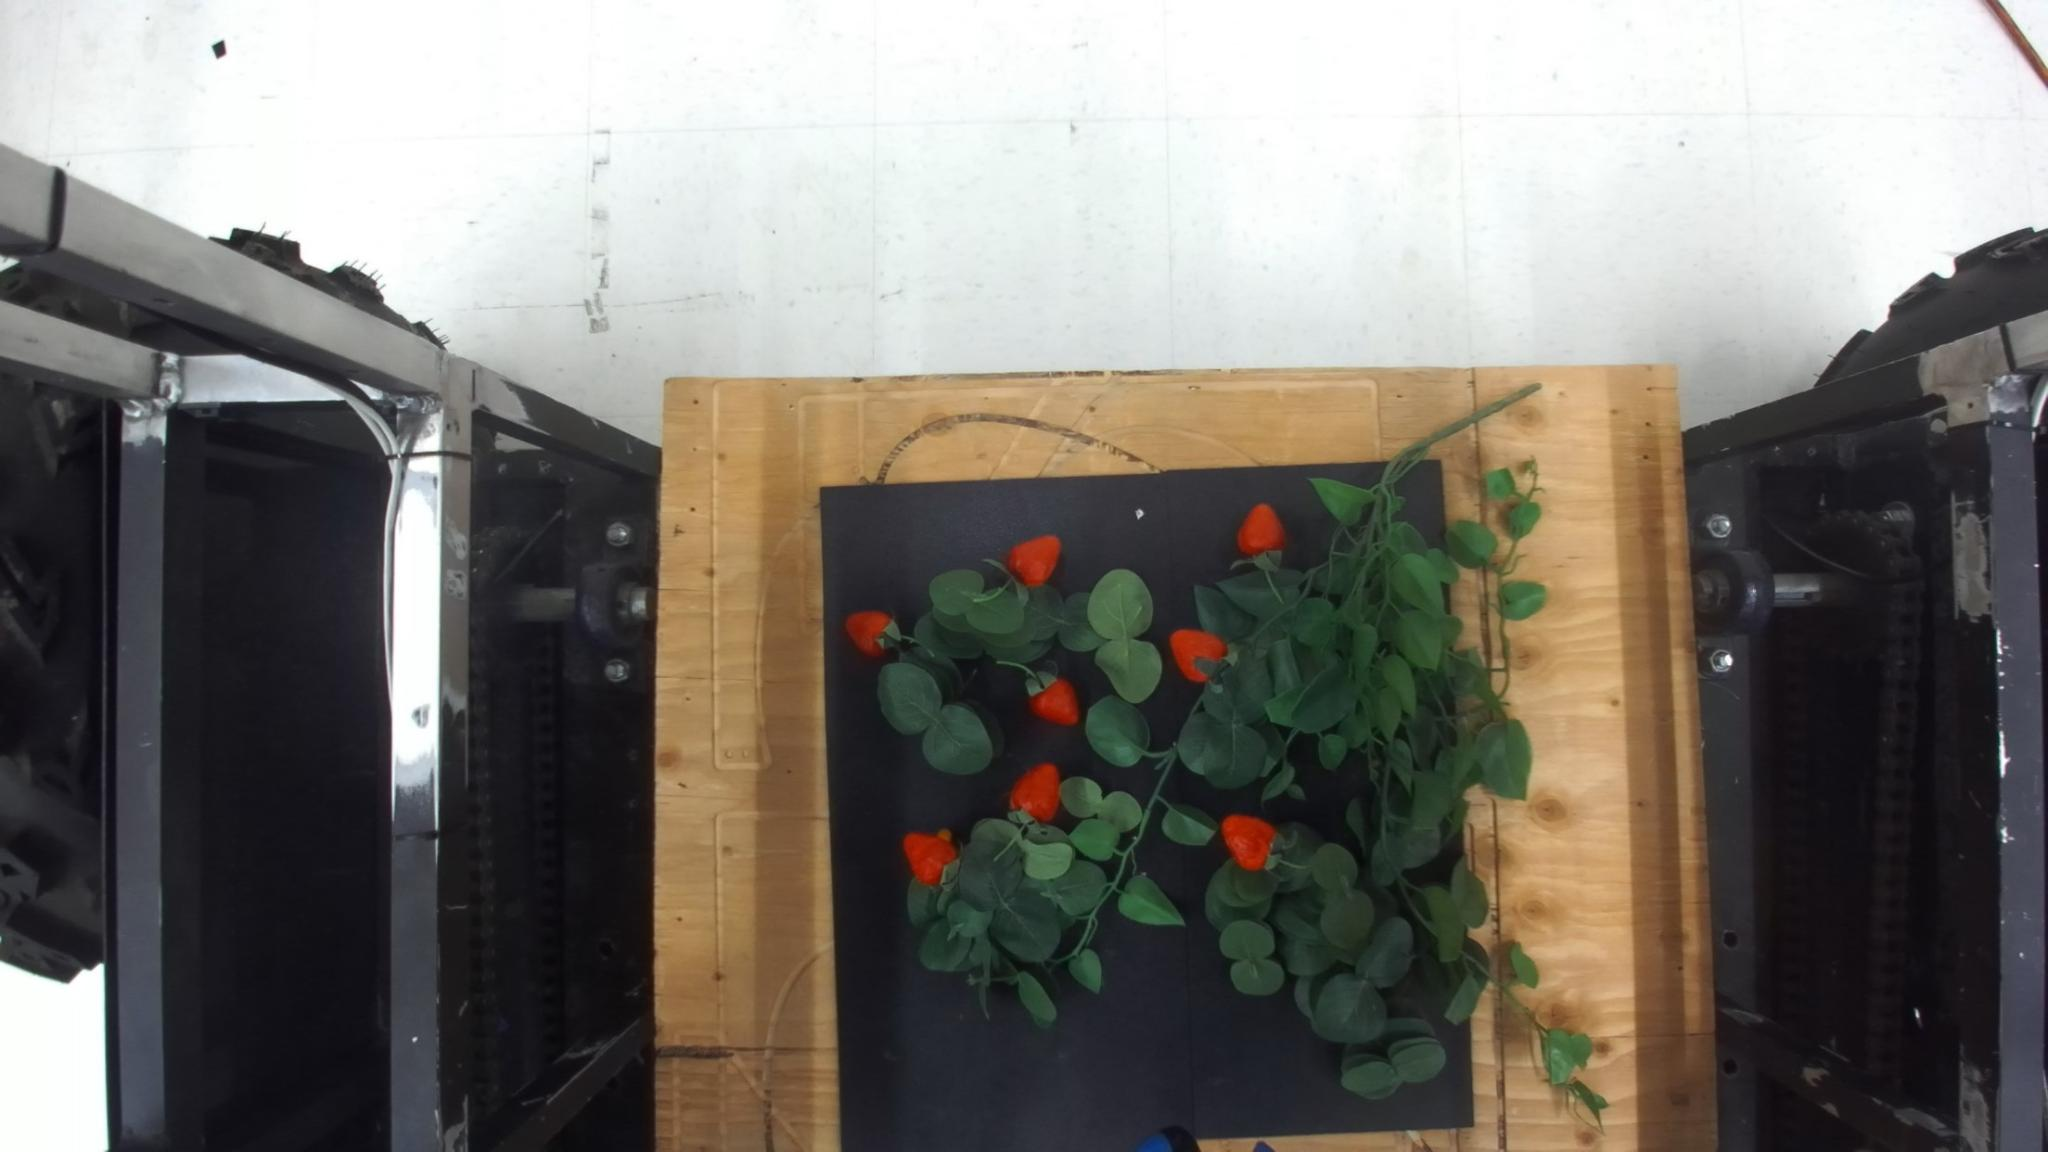strawberry: (1220, 813, 1286, 873), (1006, 761, 1066, 826), (900, 830, 959, 893), (1027, 671, 1082, 731), (1170, 630, 1227, 688), (1236, 504, 1290, 564), (844, 612, 904, 663), (1010, 533, 1061, 591)
